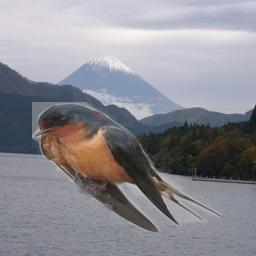Swallow: (32, 102, 222, 232)
